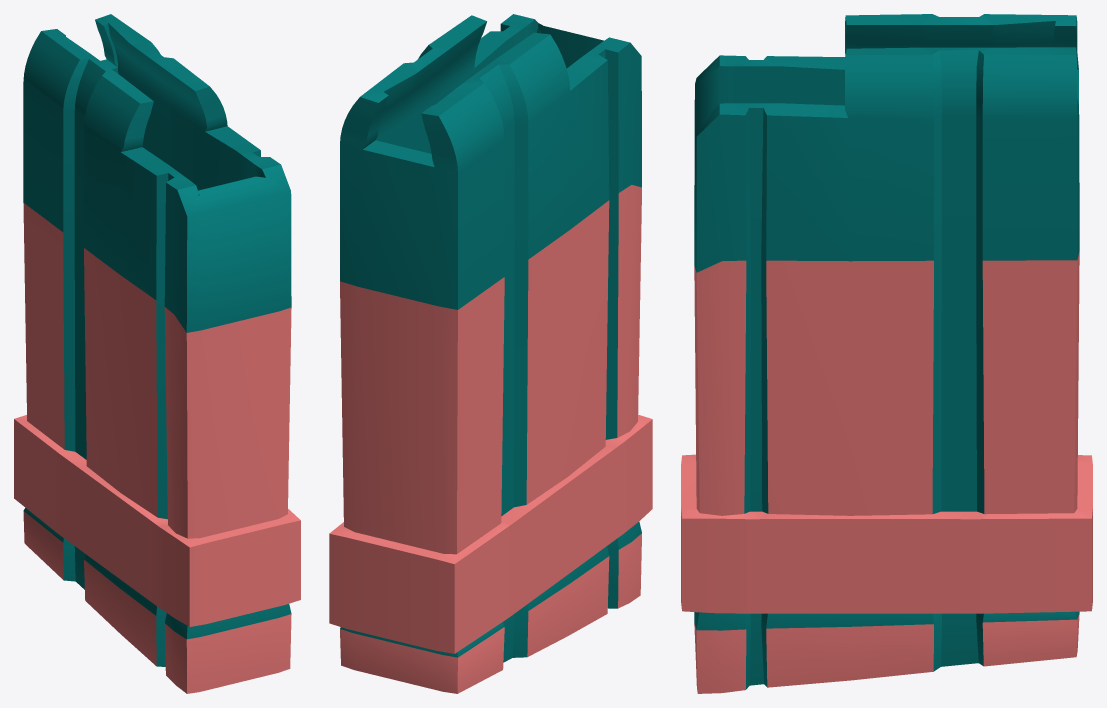
Rendered from MK14_mag.fbx.
3 renders of one model, left to right at view 1: azimuth 30°, elevation 25°; view 2: azimuth 150°, elevation 25°; view 3: azimuth 270°, elevation 25°, orthographic. The views are drawn at different scales.
Parts seen in each view (by area): view 1: magazine.001; view 2: magazine.001; view 3: magazine.001.
Boxes of the visible parts, <box> form: magazine.001: <box>14,14,300,693</box>; magazine.001: <box>329,14,652,693</box>; magazine.001: <box>681,14,1092,693</box>.
Size of the model in its own units: 2.84 by 7.47 by 12.65.
